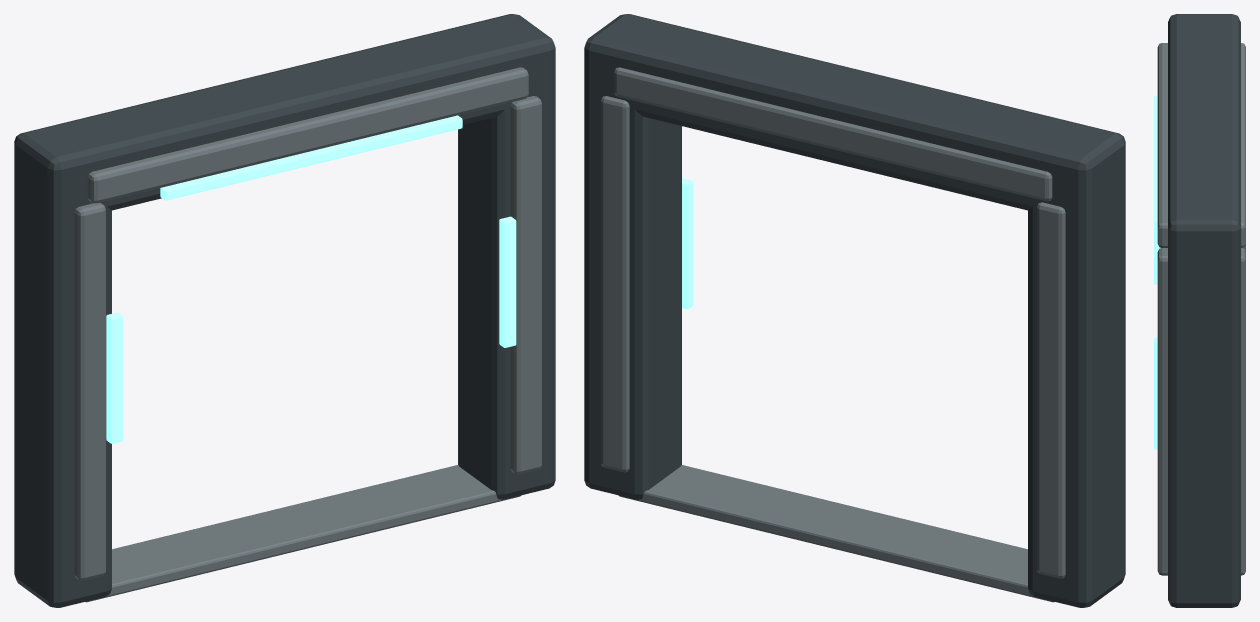
The model's file is DoorFrame_A.fbx.
3 views of the same model, side by side, from view 1: azimuth 30°, elevation 25°; view 2: azimuth 150°, elevation 25°; view 3: azimuth 270°, elevation 25° (orthographic). The views are drawn at different scales.
Visible parts, largest first — view 1: Door Header, Door Left Column, Door Right Column, Door Threshold, Header Armor, Left Armor, Right Armor, Door Header Light, Access Light Left, Access Light Right; view 2: Door Header, Door Left Column, Door Right Column, Door Threshold, Header Armor, Left Armor, Right Armor, Access Light Right; view 3: Door Right Column, Door Header, Right Armor, Header Armor, Door Header Light, Access Light Right, Access Light Left, Door Left Column.
Part boxes in pixels (<box>): Door Header: <box>15,14,555,217</box>; Door Left Column: <box>14,123,111,607</box>; Door Right Column: <box>458,14,555,499</box>; Door Threshold: <box>85,465,521,602</box>; Header Armor: <box>87,67,528,203</box>; Left Armor: <box>74,203,105,580</box>; Right Armor: <box>510,96,541,474</box>; Door Header Light: <box>160,115,462,200</box>; Access Light Left: <box>106,312,123,443</box>; Access Light Right: <box>499,216,516,347</box>; Door Header: <box>588,14,1125,217</box>; Door Left Column: <box>1028,122,1125,607</box>; Door Right Column: <box>584,14,681,499</box>; Door Threshold: <box>618,465,1054,602</box>; Header Armor: <box>614,67,1052,201</box>; Left Armor: <box>1037,202,1065,578</box>; Right Armor: <box>601,96,629,472</box>; Access Light Right: <box>682,178,693,309</box>; Door Right Column: <box>1168,200,1240,607</box>; Door Header: <box>1168,14,1240,272</box>; Right Armor: <box>1157,248,1245,575</box>; Header Armor: <box>1157,43,1245,247</box>; Door Header Light: <box>1154,96,1157,228</box>; Access Light Right: <box>1154,337,1157,449</box>; Access Light Left: <box>1154,228,1160,284</box>; Door Left Column: <box>1171,14,1237,32</box>.
Bounding box in the file's own units: 4 × 3.4 × 0.73.
